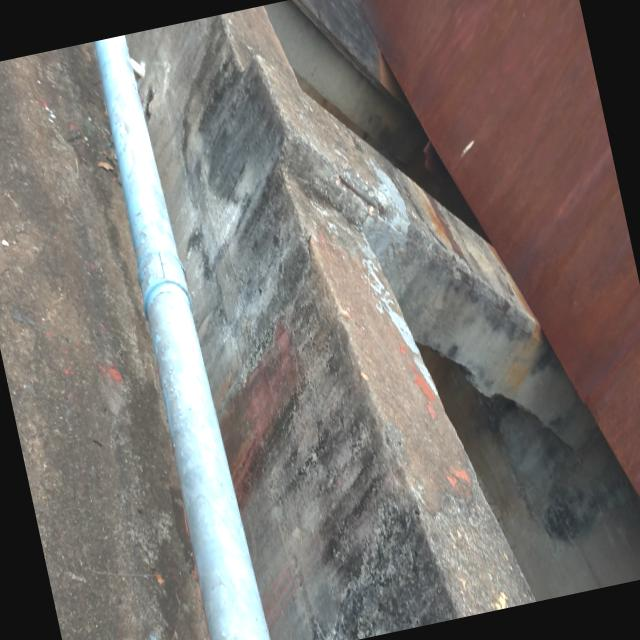gas: (80, 31, 274, 640)
